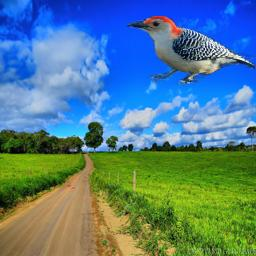Woodpecker: (127, 16, 255, 86)
